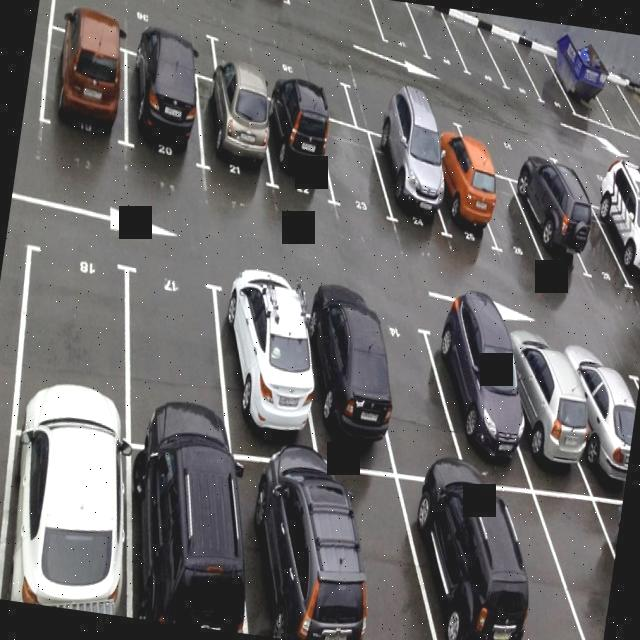car: (0, 428, 140, 614), (133, 450, 241, 628), (404, 482, 520, 640), (229, 472, 335, 640), (220, 274, 308, 444), (428, 322, 518, 488), (503, 326, 589, 490), (118, 49, 212, 192), (41, 27, 125, 175), (562, 341, 640, 499), (306, 298, 381, 458), (190, 80, 274, 202), (254, 94, 334, 215), (368, 125, 446, 238), (510, 176, 588, 280), (430, 146, 494, 258), (594, 196, 640, 288)
free: (332, 473, 451, 640), (128, 258, 224, 453), (19, 244, 134, 399), (520, 473, 625, 640), (477, 490, 589, 640), (365, 319, 453, 479), (208, 30, 356, 121), (46, 0, 210, 62), (317, 121, 391, 229), (472, 162, 538, 274), (554, 182, 626, 280), (510, 27, 582, 118), (354, 88, 462, 146), (439, 8, 510, 96), (478, 20, 544, 108), (401, 4, 467, 82), (556, 152, 640, 207), (462, 133, 560, 169), (368, 0, 424, 59)
